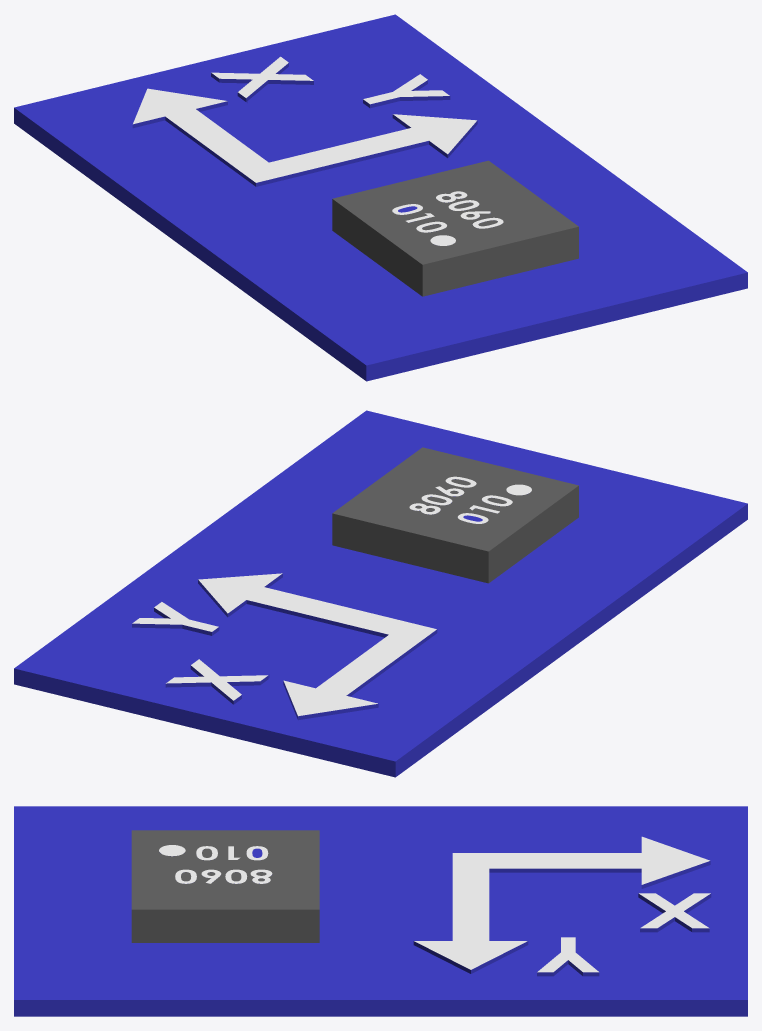
The model's file is ist8310.gltf.
The picture shows the model from 3 angles, top to bottom: view 1: azimuth 30°, elevation 25°; view 2: azimuth 150°, elevation 25°; view 3: azimuth 270°, elevation 25°; orthographic projection. The views are drawn at different scales.
Bounding box in the file's own units: 10 × 1.3 × 16.
